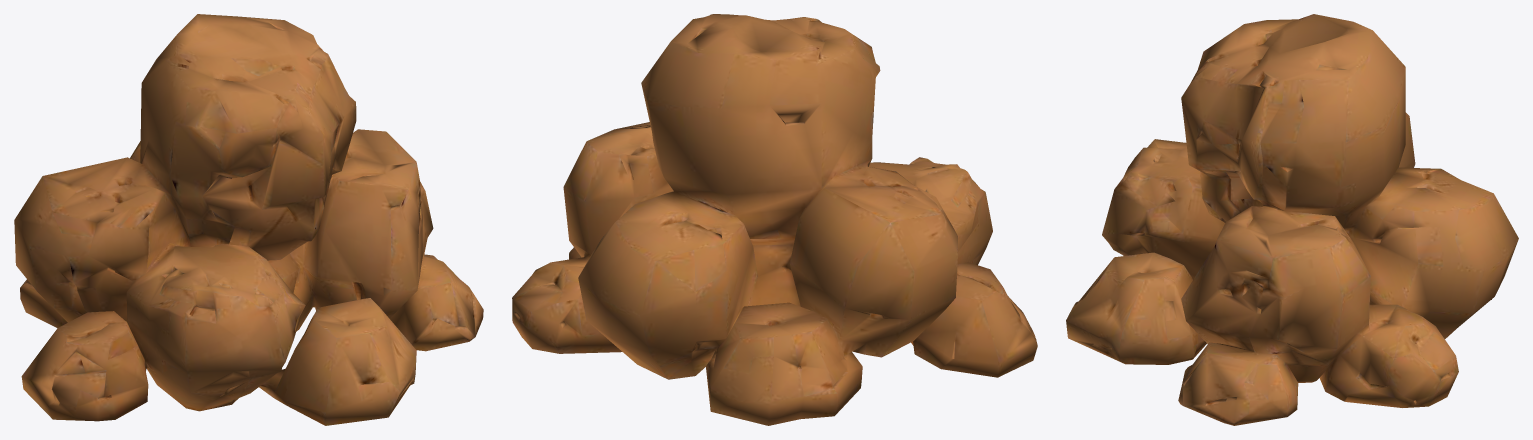
Rendered from rochas_deserto_lod1.glb.
3 renders of one model, left to right at view 1: azimuth 30°, elevation 25°; view 2: azimuth 150°, elevation 25°; view 3: azimuth 270°, elevation 25°, orthographic. The views are drawn at different scales.
Parts seen in each view (by area): view 1: tripo_node_57506510-b30c-4b89-8891-f42dc141bc0d; view 2: tripo_node_57506510-b30c-4b89-8891-f42dc141bc0d; view 3: tripo_node_57506510-b30c-4b89-8891-f42dc141bc0d.
Boxes of the visible parts, bbox=[...] form: tripo_node_57506510-b30c-4b89-8891-f42dc141bc0d: bbox=[14, 14, 483, 425]; tripo_node_57506510-b30c-4b89-8891-f42dc141bc0d: bbox=[512, 14, 1037, 425]; tripo_node_57506510-b30c-4b89-8891-f42dc141bc0d: bbox=[1066, 14, 1518, 425].
Bounding box in the file's own units: 0.9757 × 0.6466 × 0.8953.
1 material, 1 textured.
